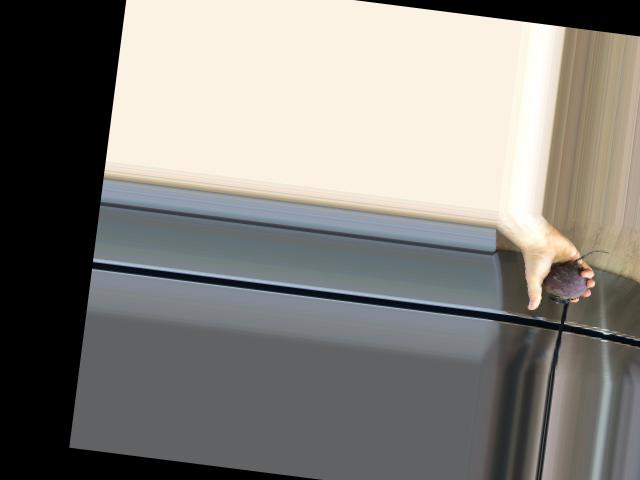beet: (540, 244, 610, 309)
